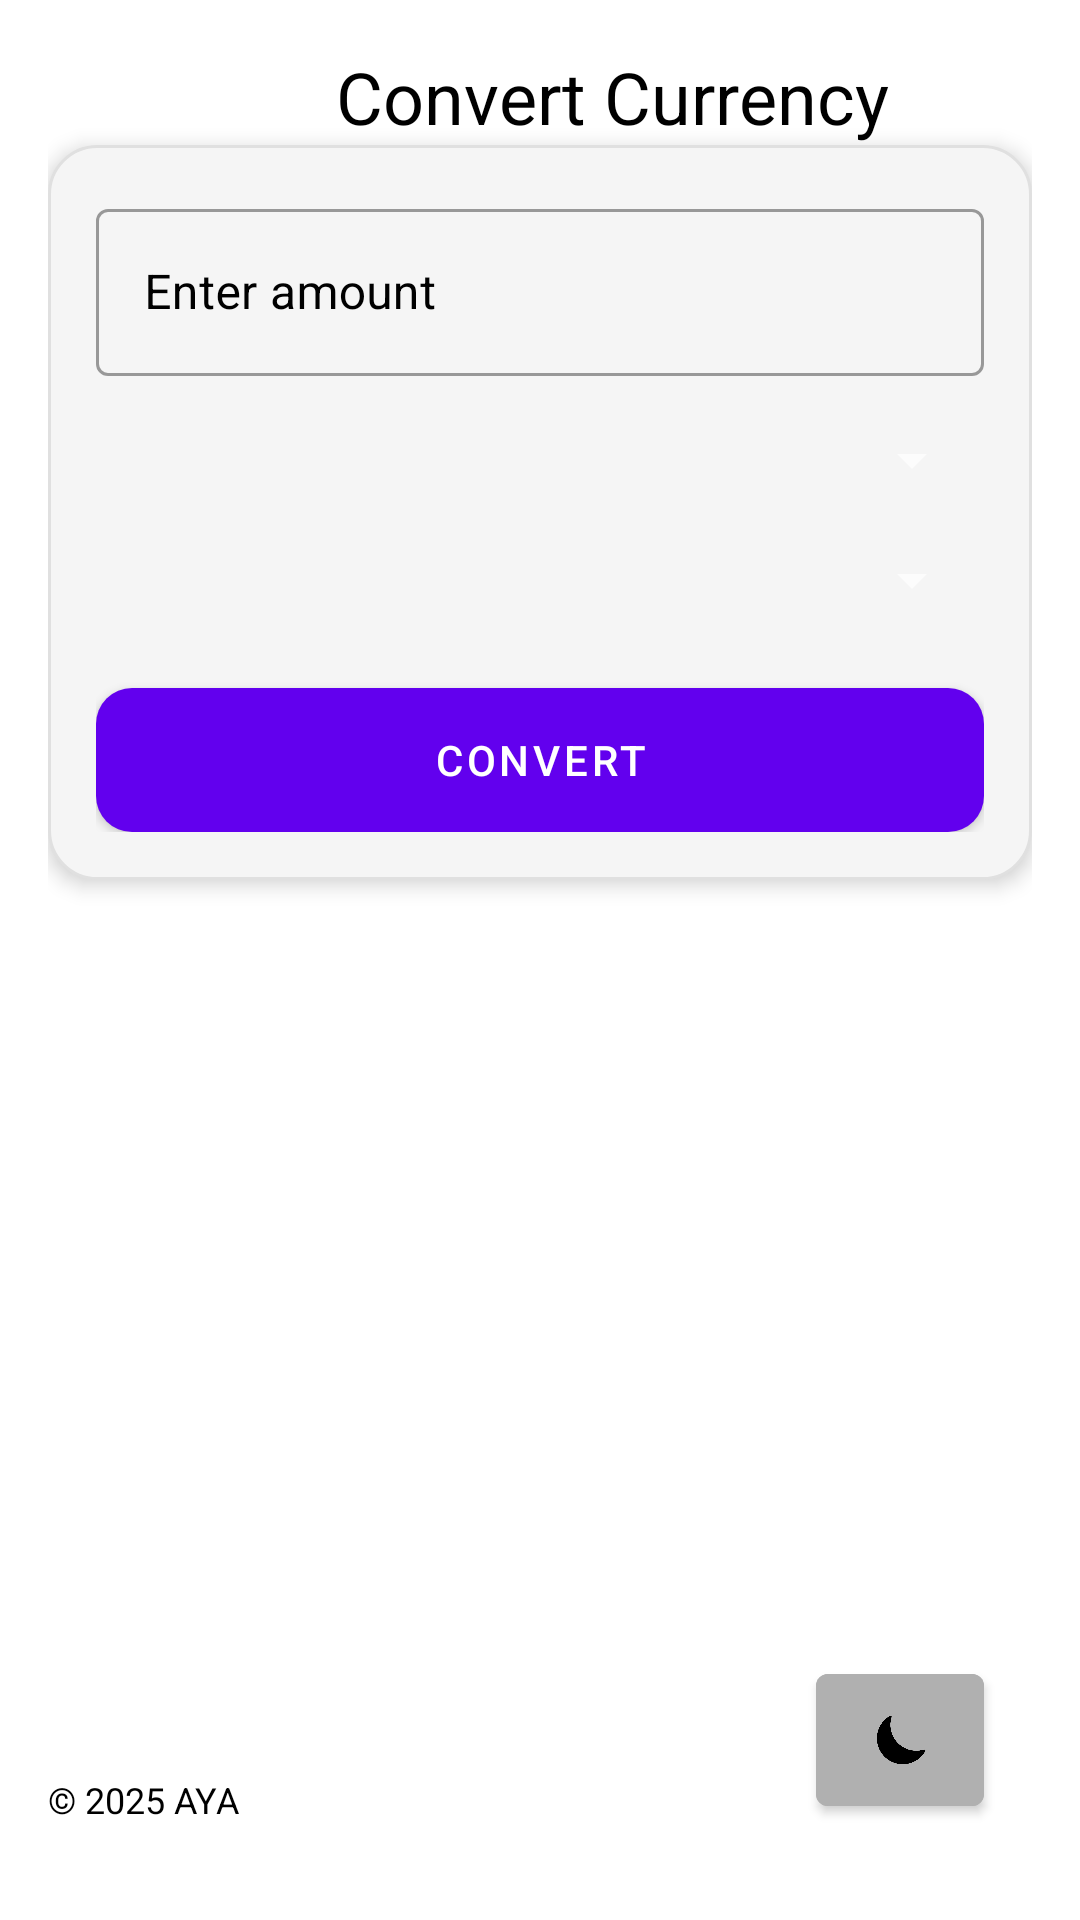

Icon bounding boxes for this 1080w x 1920h phone screenshot, format Rect(x1, y1, x2, y2):
moon: Rect(816, 1674, 984, 1811)
